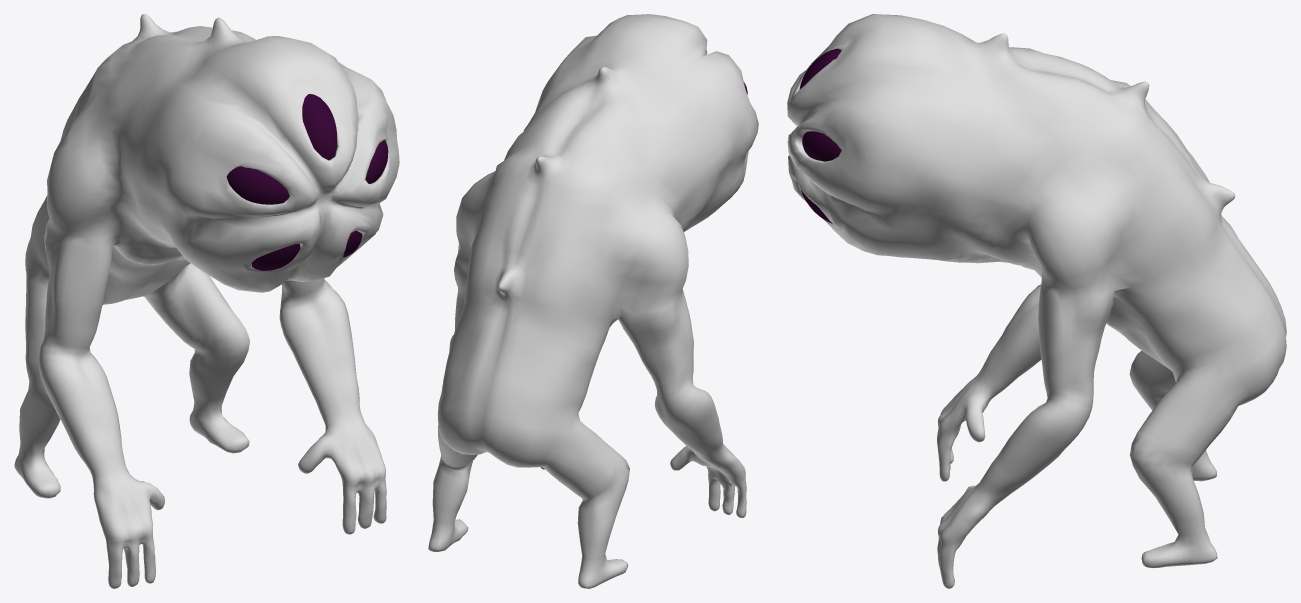
The model's file is mesh_shapeshifter.fbx.
3 renders of one model, left to right at view 1: azimuth 30°, elevation 25°; view 2: azimuth 150°, elevation 25°; view 3: azimuth 270°, elevation 25°, orthographic. The views are drawn at different scales.
Visible parts, largest first — view 1: cambiaformas_polySurface1, ojos_low_Group10862; view 2: cambiaformas_polySurface1; view 3: cambiaformas_polySurface1, ojos_low_Group10862.
Boxes of the visible parts, x1,y1,x2,y2 form: cambiaformas_polySurface1: [14, 14, 399, 588]; ojos_low_Group10862: [226, 94, 388, 270]; cambiaformas_polySurface1: [428, 14, 758, 588]; cambiaformas_polySurface1: [787, 14, 1286, 588]; ojos_low_Group10862: [799, 48, 841, 223].
Bounding box in the file's own units: 3.71 × 6.33 × 5.68.
